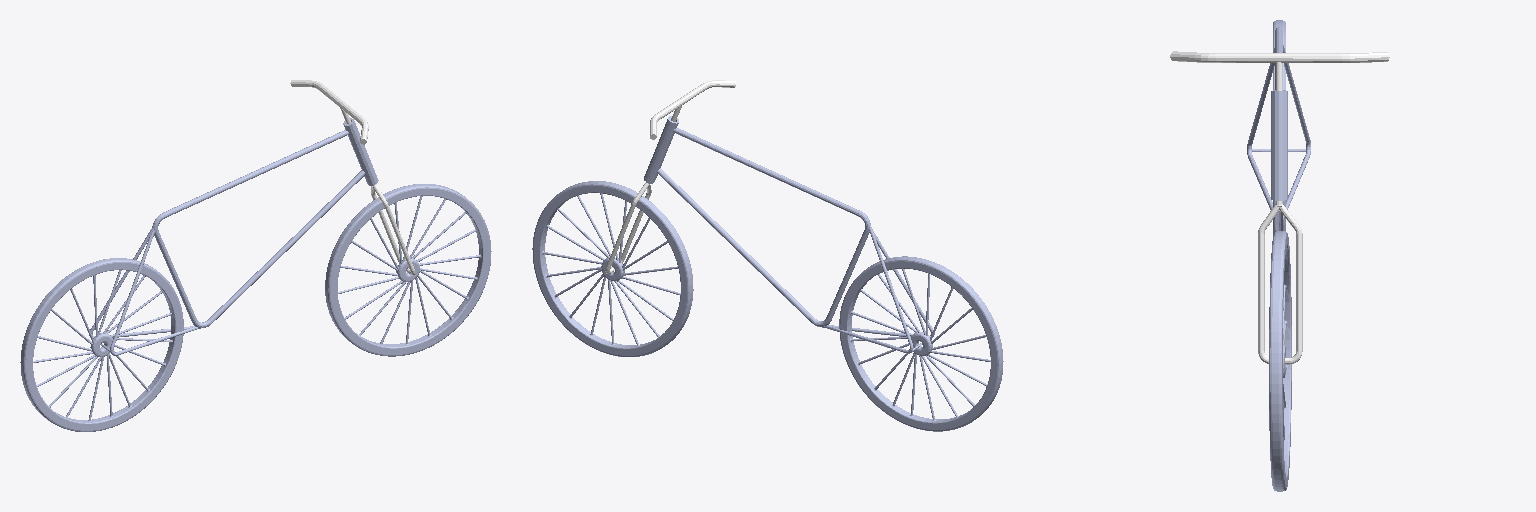
URDF robot description (bike):
<?xml version="1.0" encoding="utf-8"?>
<!-- This URDF was automatically created by SolidWorks to URDF Exporter! Originally created by [author] ([email redacted]) 
     Commit Version: 1.6.0-4-g7f85cfe  Build Version: 1.6.7995.38578
     For more information, please see http://wiki.ros.org/sw_urdf_exporter -->
<robot
  name="bike">
  <link
    name="base_link">
    <inertial>
      <origin
        xyz="-0.032545 -3.354E-05 -0.24417"
        rpy="0 0 0" />
      <mass
        value="1.9958" />
      <inertia
        ixx="0.12185"
        ixy="-3.4075E-05"
        ixz="-0.12657"
        iyy="0.46746"
        iyz="-5.4907E-05"
        izz="0.34795" />
    </inertial>
    <visual>
      <origin
        xyz="0 0 0"
        rpy="0 0 0" />
      <geometry>
        <mesh
          filename="package://bike/meshes/base_link.STL" />
      </geometry>
      <material
        name="">
        <color
          rgba="0.79216 0.81961 0.93333 1" />
      </material>
    </visual>
    <collision>
      <origin
        xyz="0 0 0"
        rpy="0 0 0" />
      <geometry>
        <mesh
          filename="package://bike/meshes/base_link.STL" />
      </geometry>
    </collision>
  </link>
  <link
    name="back_wheel_Link">
    <inertial>
      <origin
        xyz="3.3105E-05 1.6191E-08 -0.00080583"
        rpy="0 0 0" />
      <mass
        value="4.6592" />
      <inertia
        ixx="0.28202"
        ixy="1.1463E-09"
        ixz="7.9387E-05"
        iyy="0.56256"
        iyz="6.2043E-09"
        izz="0.28159" />
    </inertial>
    <visual>
      <origin
        xyz="0 0 0"
        rpy="0 0 0" />
      <geometry>
        <mesh
          filename="package://bike/meshes/back_wheel_Link.STL" />
      </geometry>
      <material
        name="">
        <color
          rgba="0.79216 0.81961 0.93333 1" />
      </material>
    </visual>
    <collision>
      <origin
        xyz="0 0 0"
        rpy="0 0 0" />
      <geometry>
        <mesh
          filename="package://bike/meshes/back_wheel_Link.STL" />
      </geometry>
    </collision>
  </link>
  <joint
    name="back_wheel"
    type="continuous">
    <origin
      xyz="-0.74414 0.0005 -0.62149"
      rpy="0 0 0" />
    <parent
      link="base_link" />
    <child
      link="back_wheel_Link" />
    <axis
      xyz="0 -1 0" />
  </joint>
  <link
    name="cha_Link">
    <inertial>
      <origin
        xyz="-0.0069293 0.0010208 -0.1735"
        rpy="0 0 0" />
      <mass
        value="0.96467" />
      <inertia
        ixx="0.12089"
        ixy="-6.2558E-06"
        ixz="0.0016233"
        iyy="0.10274"
        iyz="0.00042507"
        izz="0.018692" />
    </inertial>
    <visual>
      <origin
        xyz="0 0 0"
        rpy="0 0 0" />
      <geometry>
        <mesh
          filename="package://bike/meshes/cha_Link.STL" />
      </geometry>
      <material
        name="">
        <color
          rgba="1 1 1 1" />
      </material>
    </visual>
    <collision>
      <origin
        xyz="0 0 0"
        rpy="0 0 0" />
      <geometry>
        <mesh
          filename="package://bike/meshes/cha_Link.STL" />
      </geometry>
    </collision>
  </link>
  <joint
    name="qian_cha"
    type="continuous">
    <origin
      xyz="0.45428 0 0.13535"
      rpy="0.014856 -0.36774 -0.041303" />
    <parent
      link="base_link" />
    <child
      link="cha_Link" />
    <axis
      xyz="0 0 -1" />
  </joint>
  <link
    name="forward_wheel_Link">
    <inertial>
      <origin
        xyz="0.00039276 -0.005 -0.00070442"
        rpy="0 0 0" />
      <mass
        value="4.6592" />
      <inertia
        ixx="0.28187"
        ixy="-1.6564E-09"
        ixz="0.00022018"
        iyy="0.56256"
        iyz="6.0679E-09"
        izz="0.28175" />
    </inertial>
    <visual>
      <origin
        xyz="0 0 0"
        rpy="0 0 0" />
      <geometry>
        <mesh
          filename="package://bike/meshes/forward_wheel_Link.STL" />
      </geometry>
      <material
        name="">
        <color
          rgba="0.79216 0.81961 0.93333 1" />
      </material>
    </visual>
    <collision>
      <origin
        xyz="0 0 0"
        rpy="0 0 0" />
      <geometry>
        <mesh
          filename="package://bike/meshes/forward_wheel_Link.STL" />
      </geometry>
    </collision>
  </link>
  <joint
    name="forward_wheel"
    type="continuous">
    <origin
      xyz="-0.0007326 0.0084594 -0.811"
      rpy="0 0 0" />
    <parent
      link="cha_Link" />
    <child
      link="forward_wheel_Link" />
    <axis
      xyz="0 -1 0" />
  </joint>
</robot>

--- Facts derived from the render (not from the file) ---
3 views of the same robot in one strip: view 1: azimuth 30°, elevation 25°; view 2: azimuth 150°, elevation 25°; view 3: azimuth 270°, elevation 25° (orthographic).
Model bike with 4 links and 3 joints (3 continuous), rooted at base_link, posed every joint at zero.
Visible links, largest first — view 1: forward_wheel_Link, back_wheel_Link, base_link, cha_Link; view 2: back_wheel_Link, forward_wheel_Link, base_link, cha_Link; view 3: forward_wheel_Link, cha_Link, base_link.
Boxes of the visible links, left/top/right/bottom form: forward_wheel_Link: left=325, top=184, right=491, bottom=356; back_wheel_Link: left=20, top=258, right=183, bottom=431; base_link: left=89, top=118, right=378, bottom=355; cha_Link: left=290, top=80, right=414, bottom=275; back_wheel_Link: left=839, top=256, right=1003, bottom=431; forward_wheel_Link: left=532, top=181, right=693, bottom=356; base_link: left=644, top=116, right=934, bottom=353; cha_Link: left=605, top=80, right=735, bottom=273; forward_wheel_Link: left=1269, top=231, right=1291, bottom=491; cha_Link: left=1170, top=51, right=1389, bottom=364; base_link: left=1247, top=27, right=1310, bottom=230.
Size in the robot's own frame: 2.27 by 0.6565 by 1.26 metres.
4 mesh visuals loaded from 4 distinct referenced files (4 binary STL).
